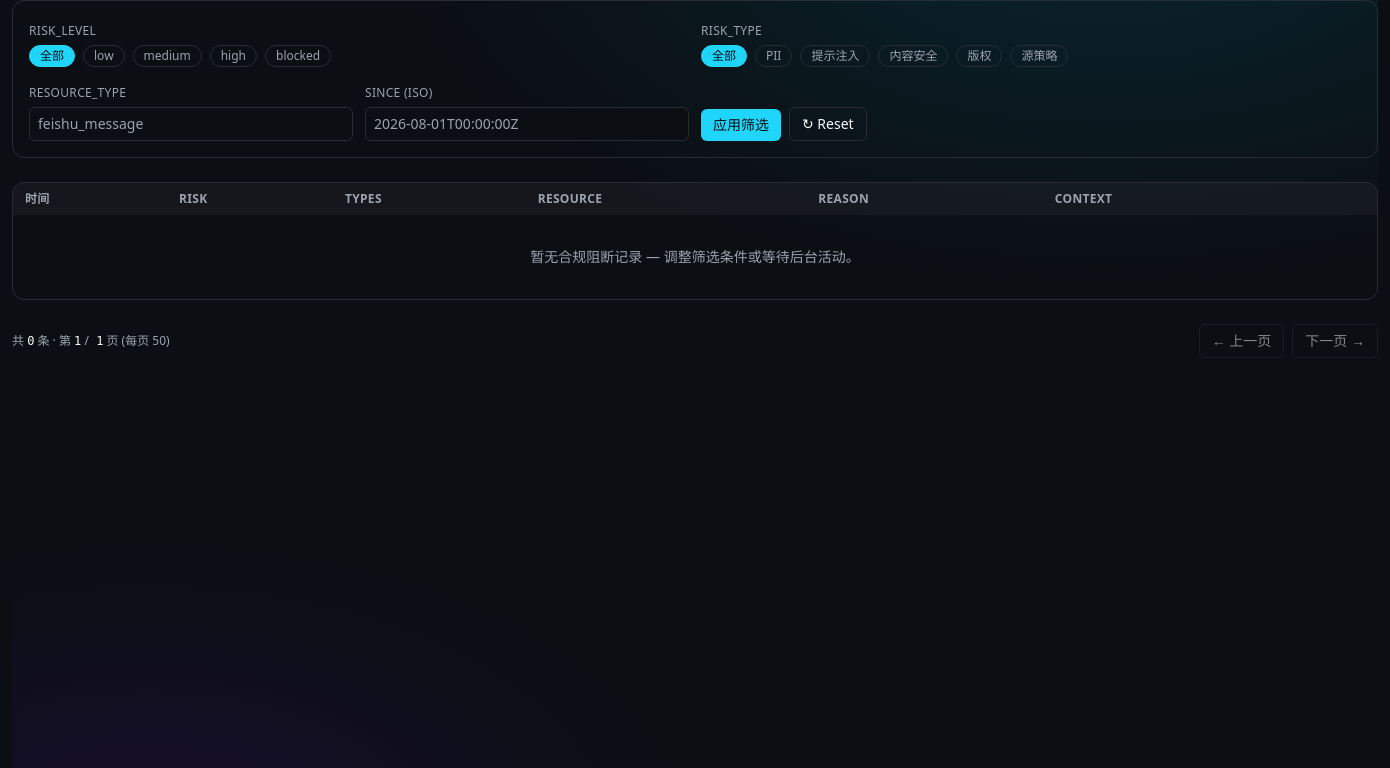
CompliancePanel › renders error banner when fetch fails
This screenshot has width=1390, height=768.
Click the button with test id "chip-risk_level-high" at (233, 56), box 210,45 -> 257,67
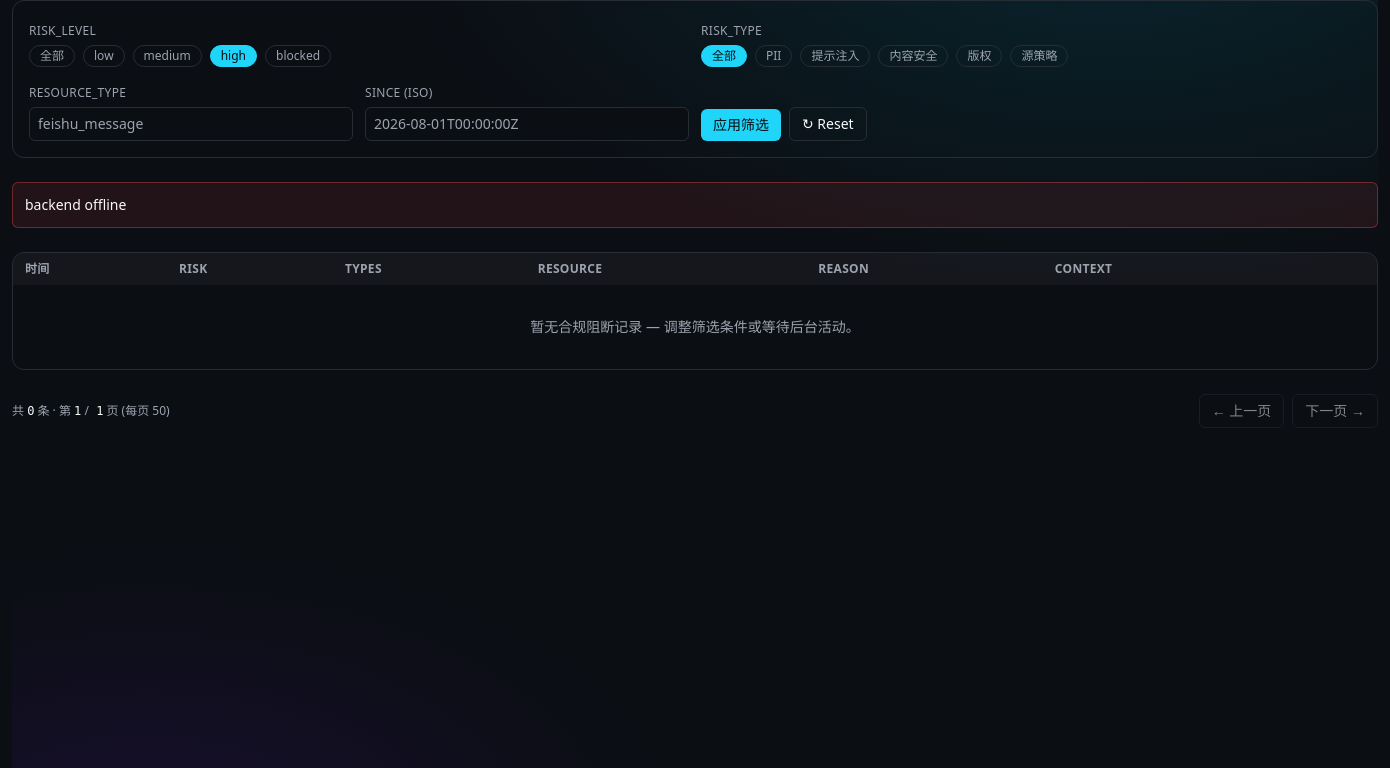
Check: the text with test id "compliance-error" reads "backend offline", box 25,195 -> 126,214
